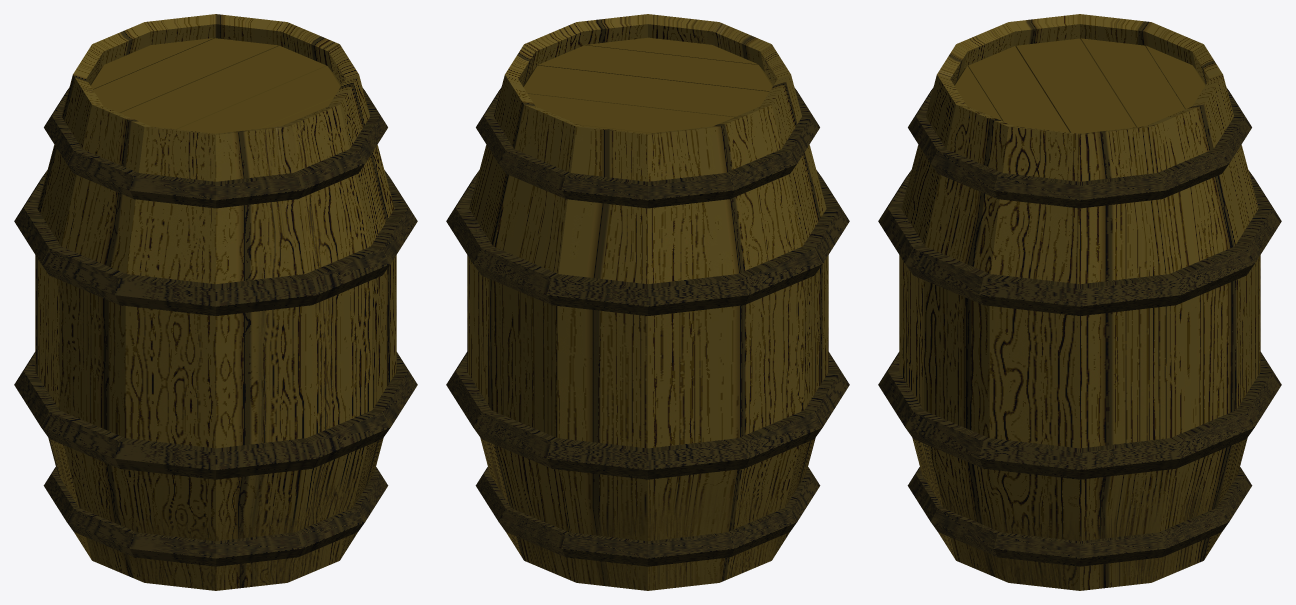
File: Barrel.fbx
3 renders of one model, left to right at view 1: azimuth 30°, elevation 25°; view 2: azimuth 150°, elevation 25°; view 3: azimuth 270°, elevation 25°, orthographic.
Parts seen in each view (by area): view 1: Cylinder, Cylinder.001, Circle; view 2: Cylinder, Cylinder.001, Circle; view 3: Cylinder, Cylinder.001, Circle.
Boxes of the visible parts, x1,y1,x2,y2 form: Cylinder: (35, 14, 396, 590); Cylinder.001: (14, 88, 417, 566); Circle: (90, 38, 341, 133); Cylinder: (467, 14, 828, 590); Cylinder.001: (446, 88, 849, 566); Circle: (523, 37, 773, 133); Cylinder: (899, 14, 1260, 590); Cylinder.001: (878, 88, 1281, 566); Circle: (954, 38, 1205, 133).
Bounding box in the file's own units: 257 × 320 × 257.
4 materials, 4 textured.
